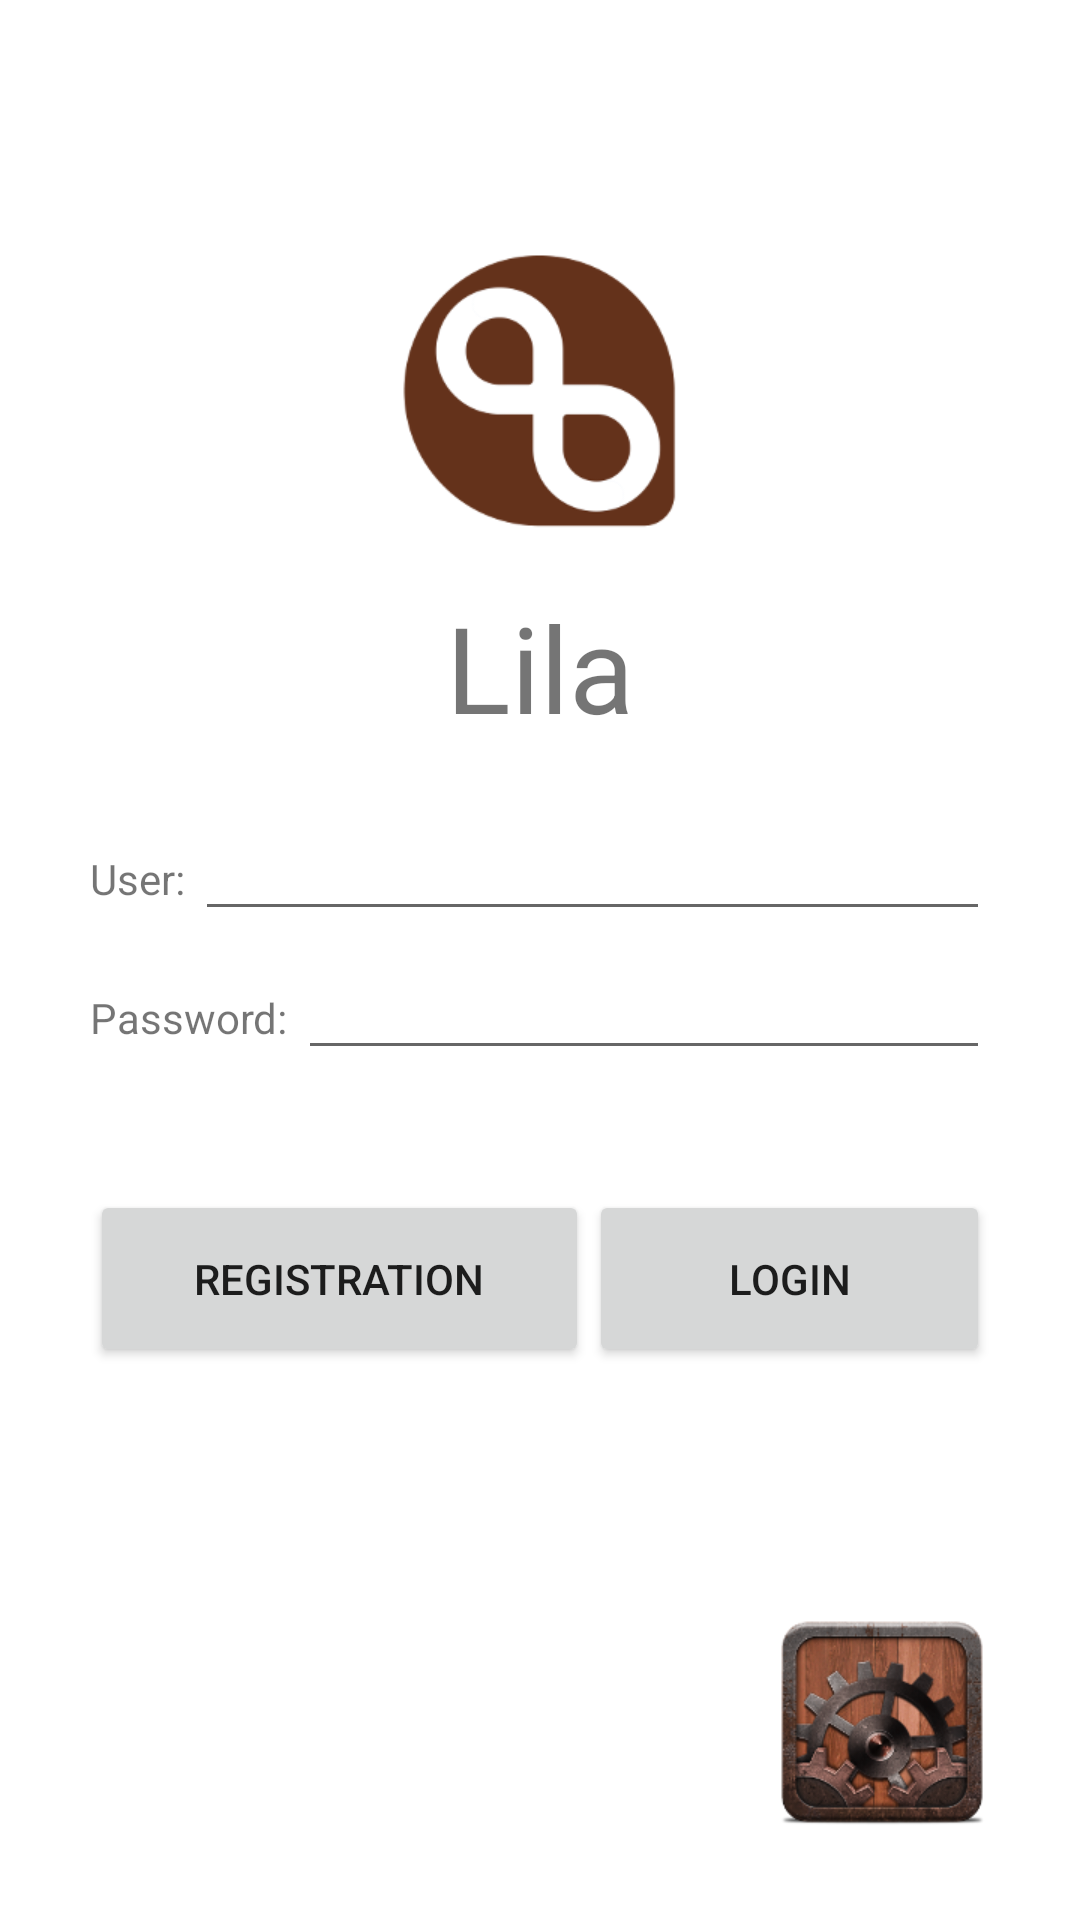

Locate icon controls on the screen. Image size 1080×1920, boxes as (x1, y1, x2, y2).
bigsettings: (781, 1621, 983, 1824)
